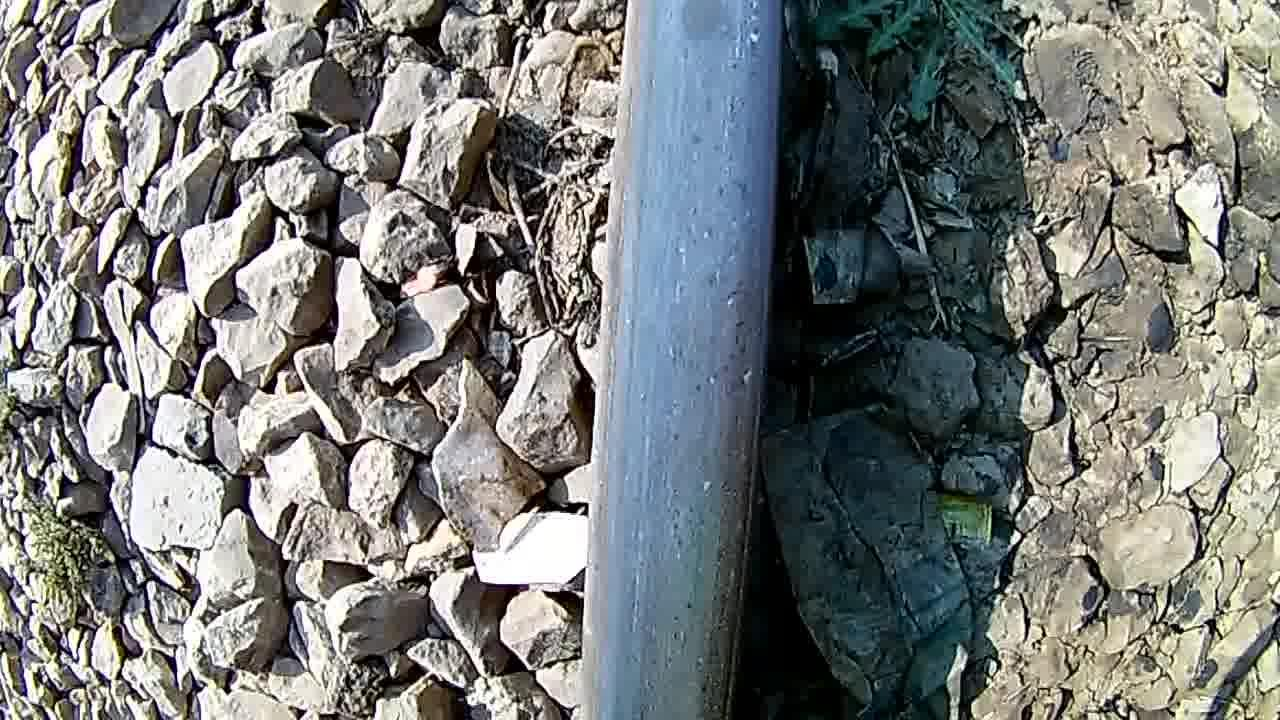bolt_missing: (670, 0, 731, 51)
